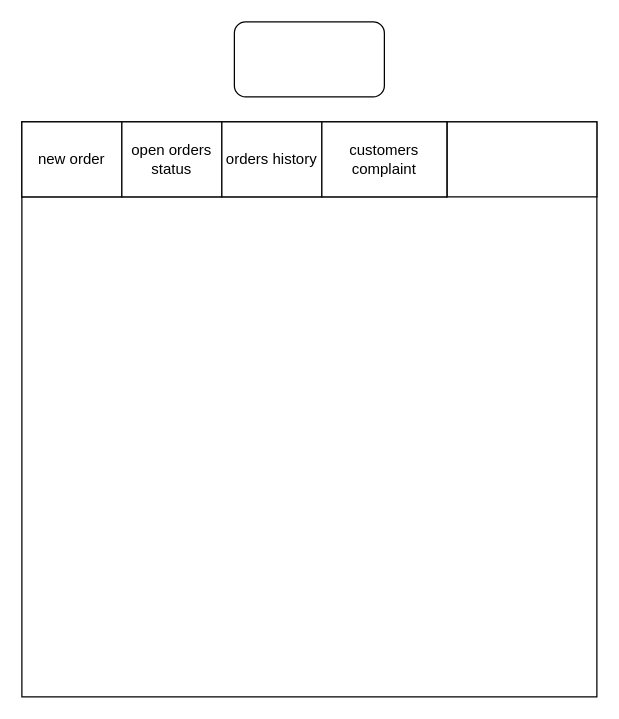
The diagram is 619 pixels wide and 719 high, and some of its shapes have lost their labels. Here are the shapes that lost their labels. From the top down, the centre of each, then its label:
At point 308,59: "customers".
At point 521,159: "login\logout".
